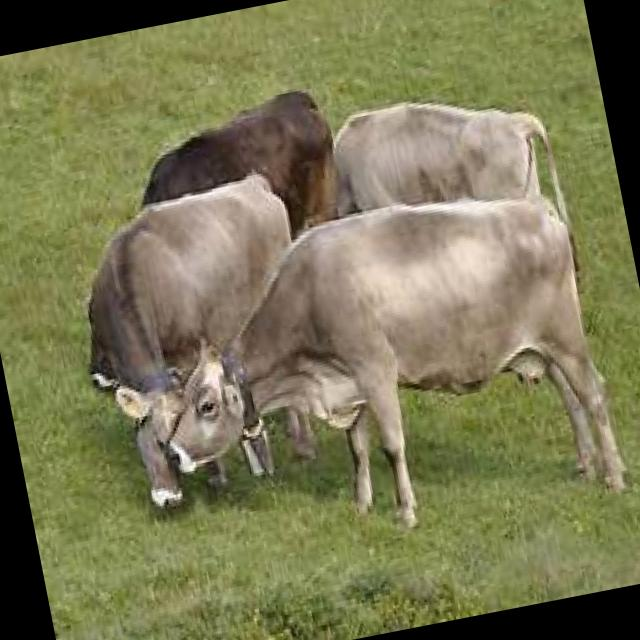animal: (133, 172, 622, 560), (59, 166, 339, 522), (126, 84, 352, 260), (326, 75, 564, 226)
